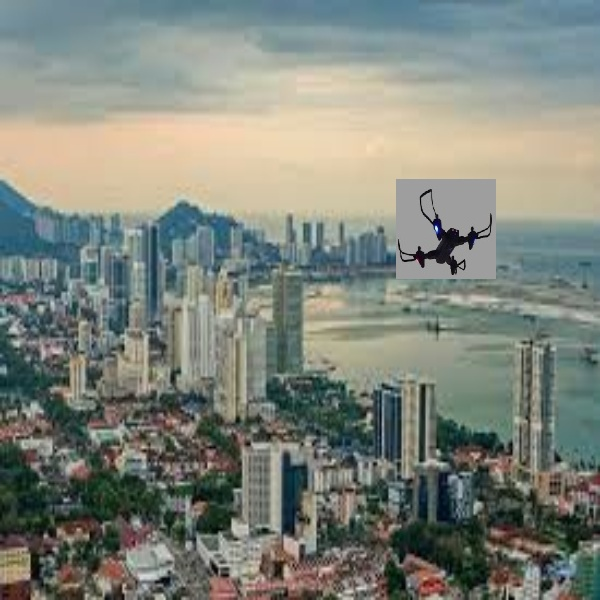drone: (399, 183, 495, 279)
